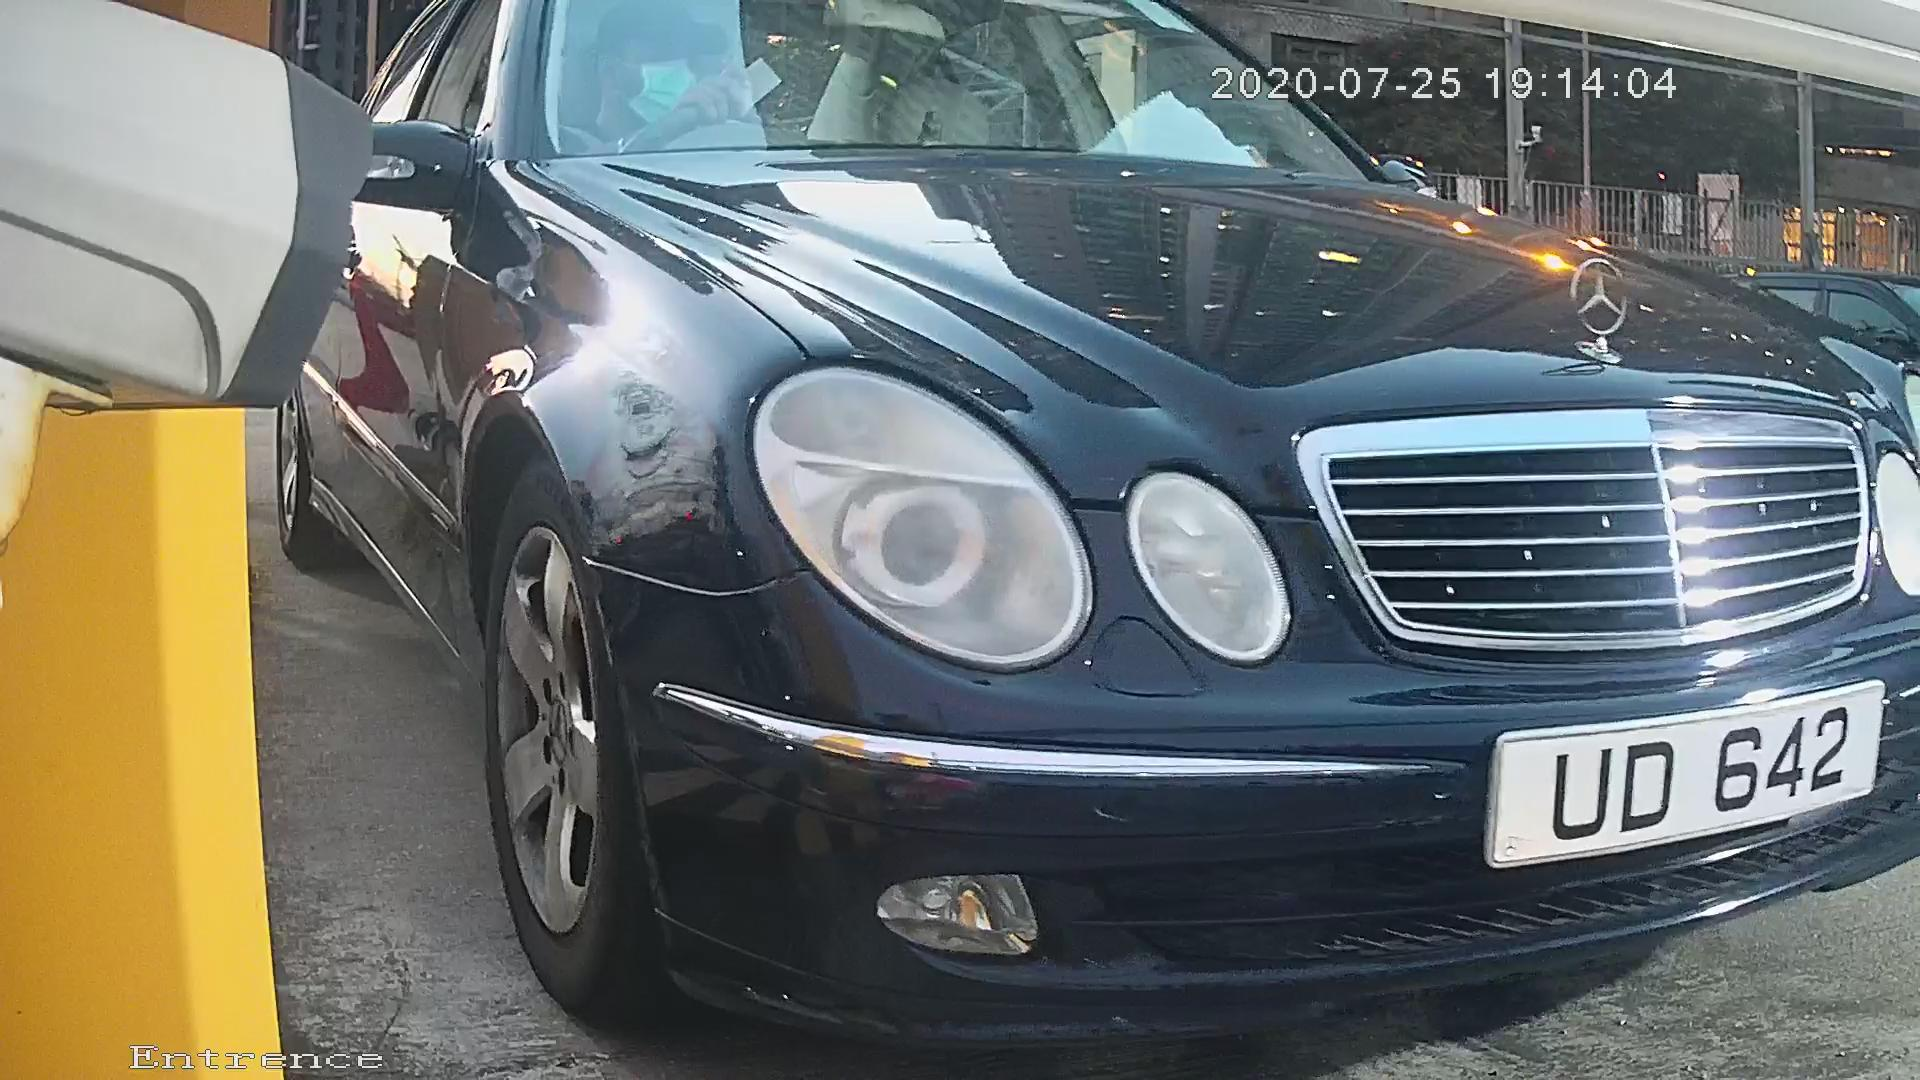License Plate: (1475, 676, 1886, 878)
